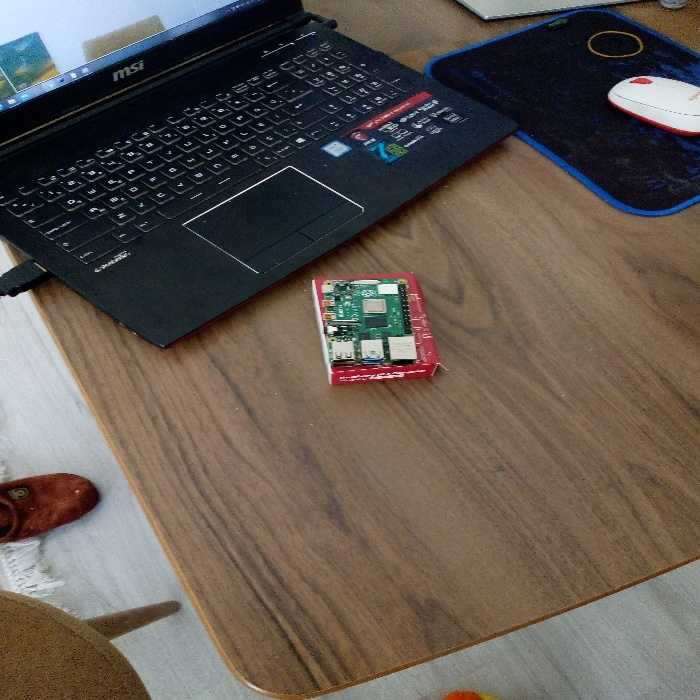raspberry: (296, 268, 441, 385)
